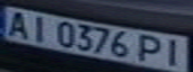0: (51, 18, 78, 50)
3: (72, 21, 93, 53)
6: (109, 28, 136, 61)
7: (90, 25, 112, 55)
A: (3, 8, 33, 38)
I: (157, 36, 190, 68), (24, 12, 54, 43)
P: (136, 33, 166, 65)
